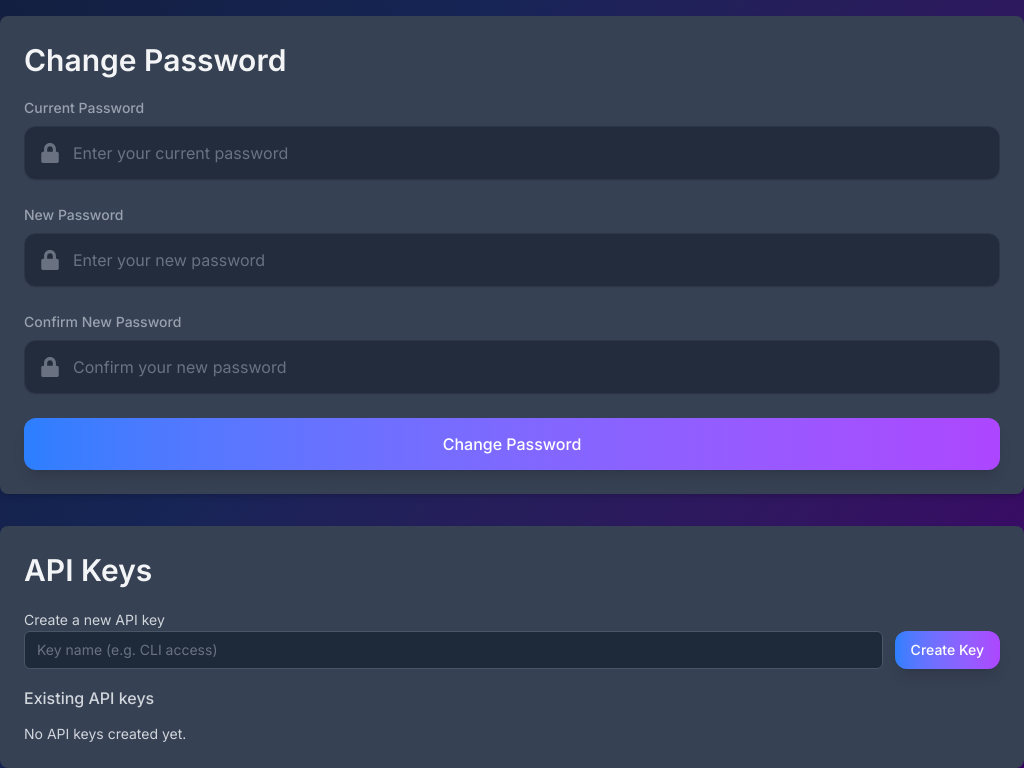
Test: ProfileManagement API keys › creates an API key and surfaces the plaintext key
(page scrolled)
Type "CLI" into the field with placeholder "Key name (e.g. CLI access)" at point(453, 650), box [24,631,883,669]
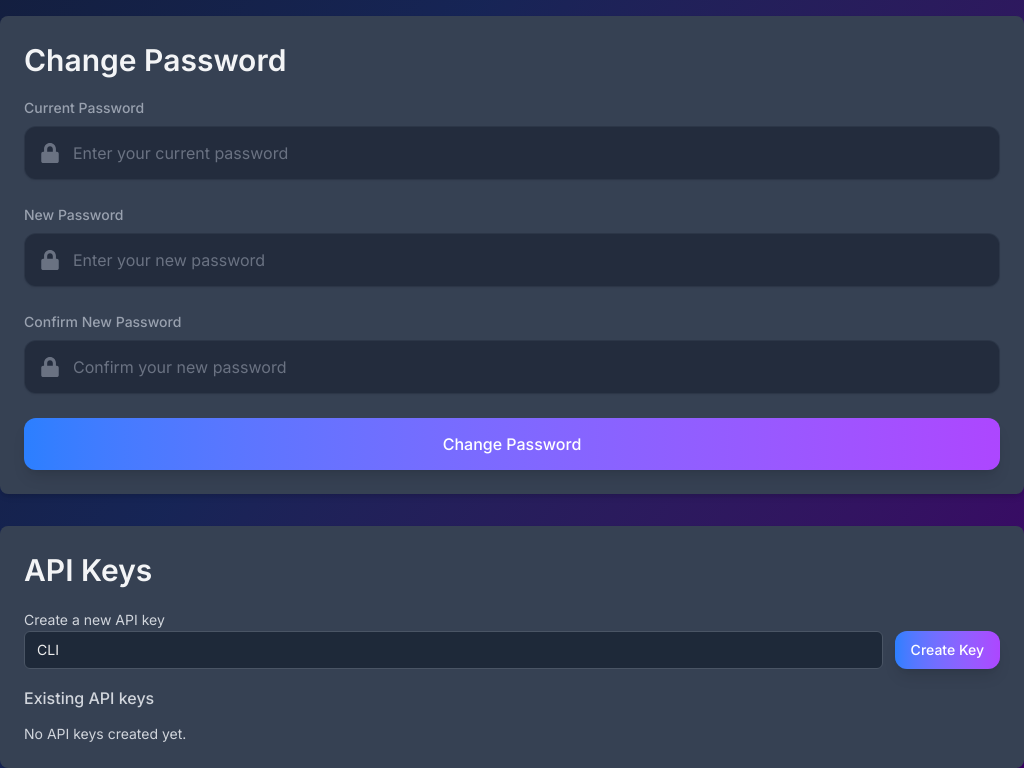
Click the button "Create Key" at point(947, 650), box [895,631,1000,669]
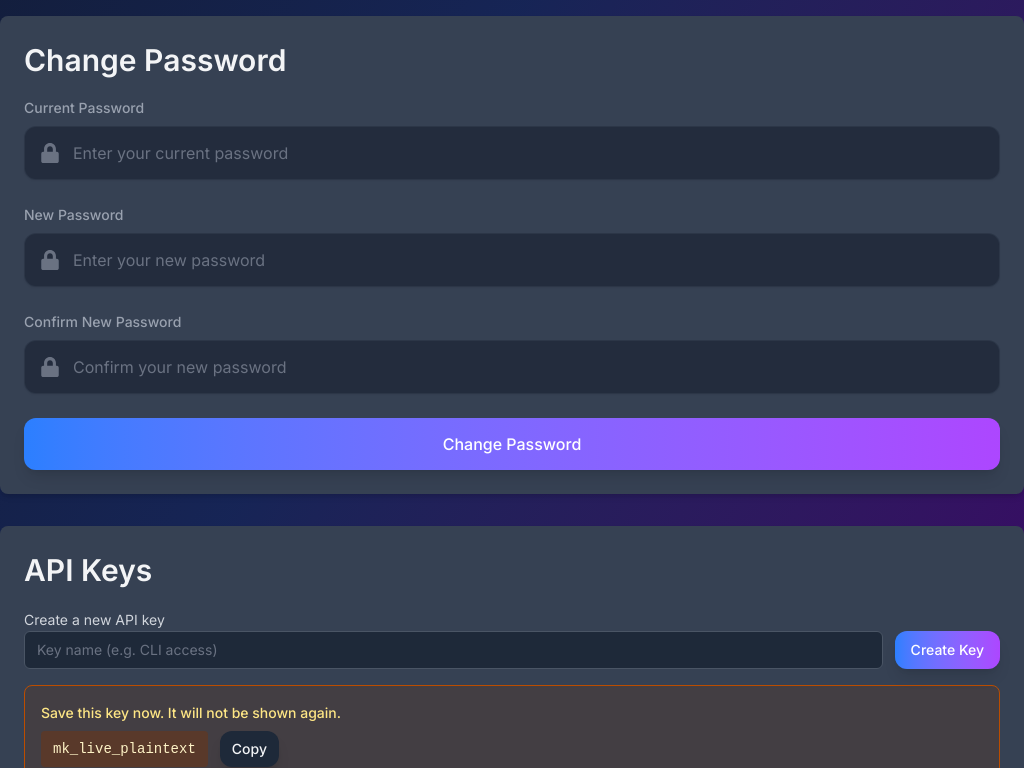
Check: the text "Save this key now. It will not be shown again." is shown, box [41,704,341,721]
Check: the text "mk_live_plaintext" is shown, box [41,731,208,767]
